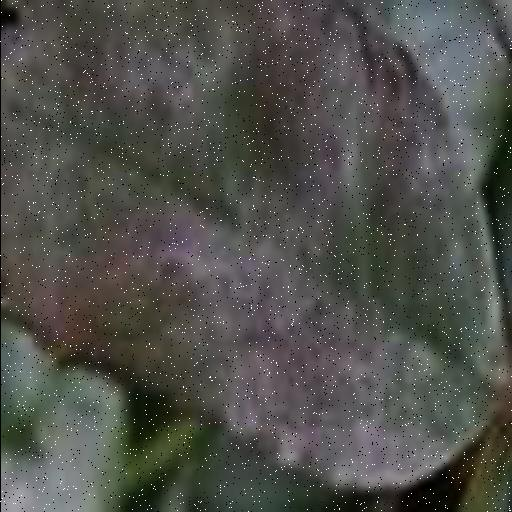powdery_mildew: (0, 0, 508, 490)
